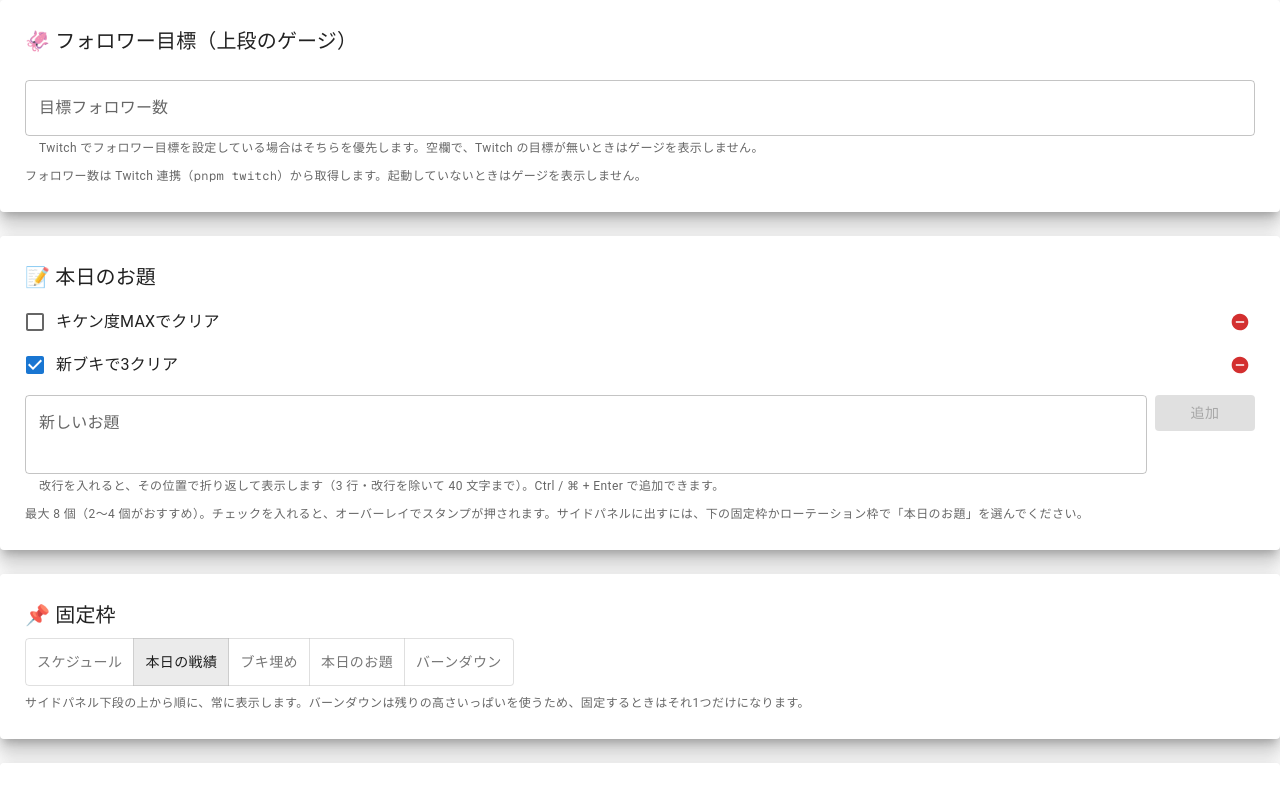
Test: SidePanelSettingsPanel › challenges › deletes a challenge
Expected: the heading "📌 固定枠" is shown, [25,603,116,627]
Click the button named "お題「キケン度MAXでクリア」を削除".
click(1240, 322)  # box [1225,307,1255,337]
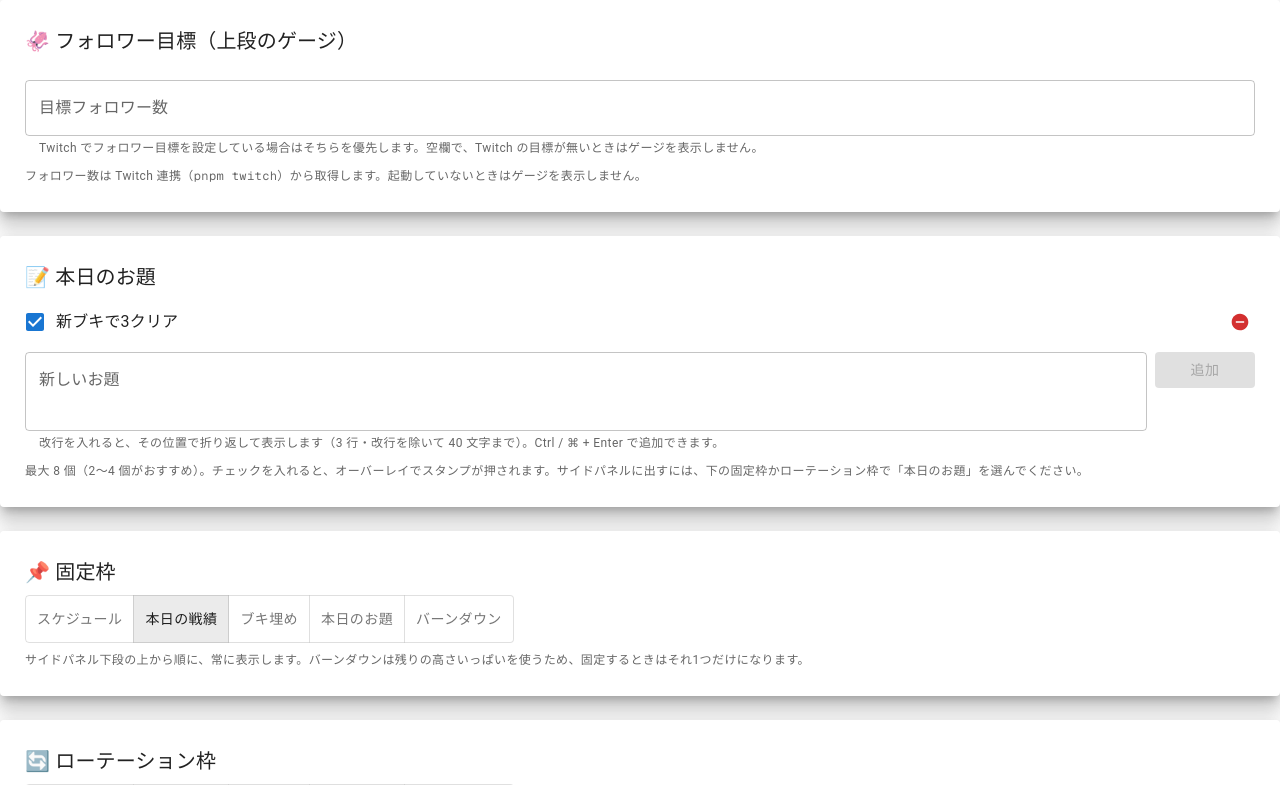
Expected: the text "キケン度MAXでクリア" is gone
